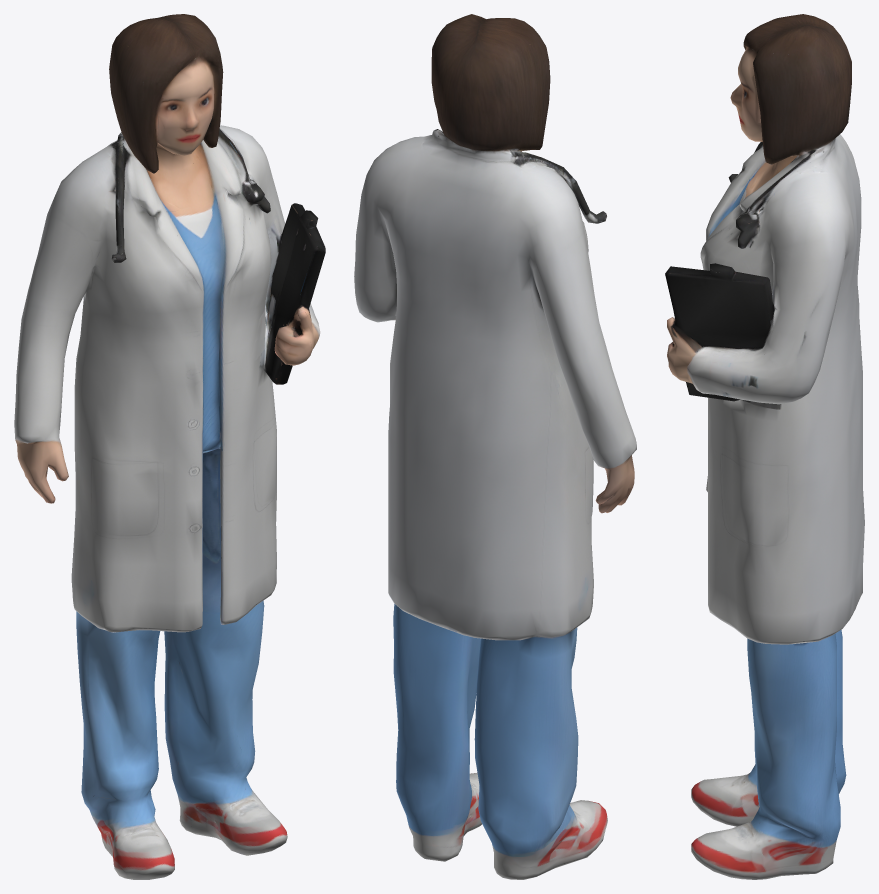
Rendered from Meshy_AI_Doctor_in_White_Coat_0213174612_texture.fbx.
3 views of the same model, side by side, from view 1: azimuth 30°, elevation 25°; view 2: azimuth 150°, elevation 25°; view 3: azimuth 270°, elevation 25° (orthographic). The views are drawn at different scales.
Parts seen in each view (by area): view 1: Mesh_0; view 2: Mesh_0; view 3: Mesh_0.
Boxes of the visible parts, x1=… form: Mesh_0: x1=14, y1=14, x2=325, y2=879; Mesh_0: x1=354, y1=14, x2=636, y2=879; Mesh_0: x1=665, y1=14, x2=864, y2=879.
Size of the model in its own units: 69.82 by 200 by 43.94.
Materials: 1 (1 with a texture image).
